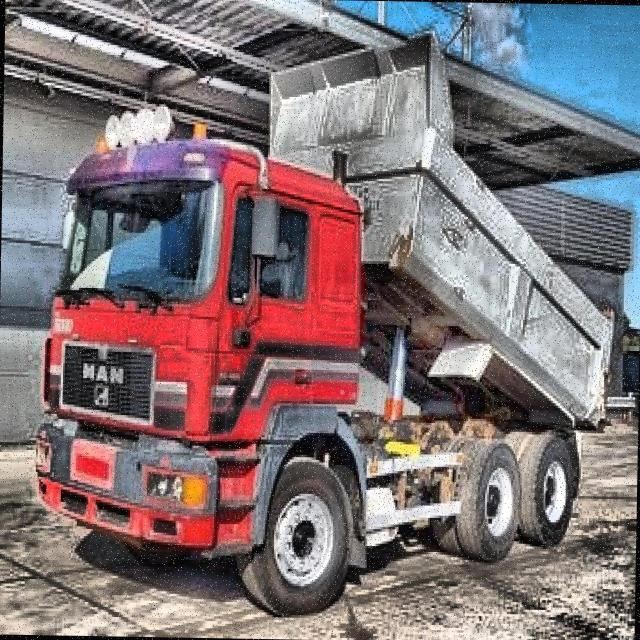dump_truck: (34, 29, 626, 626)
